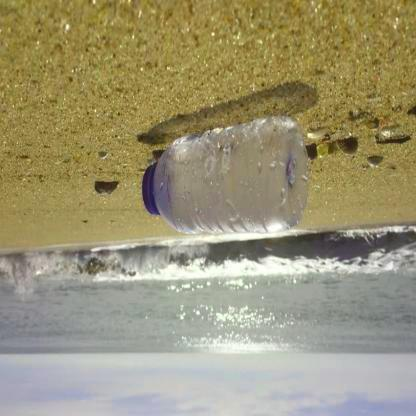Plastic: (139, 110, 314, 239)
